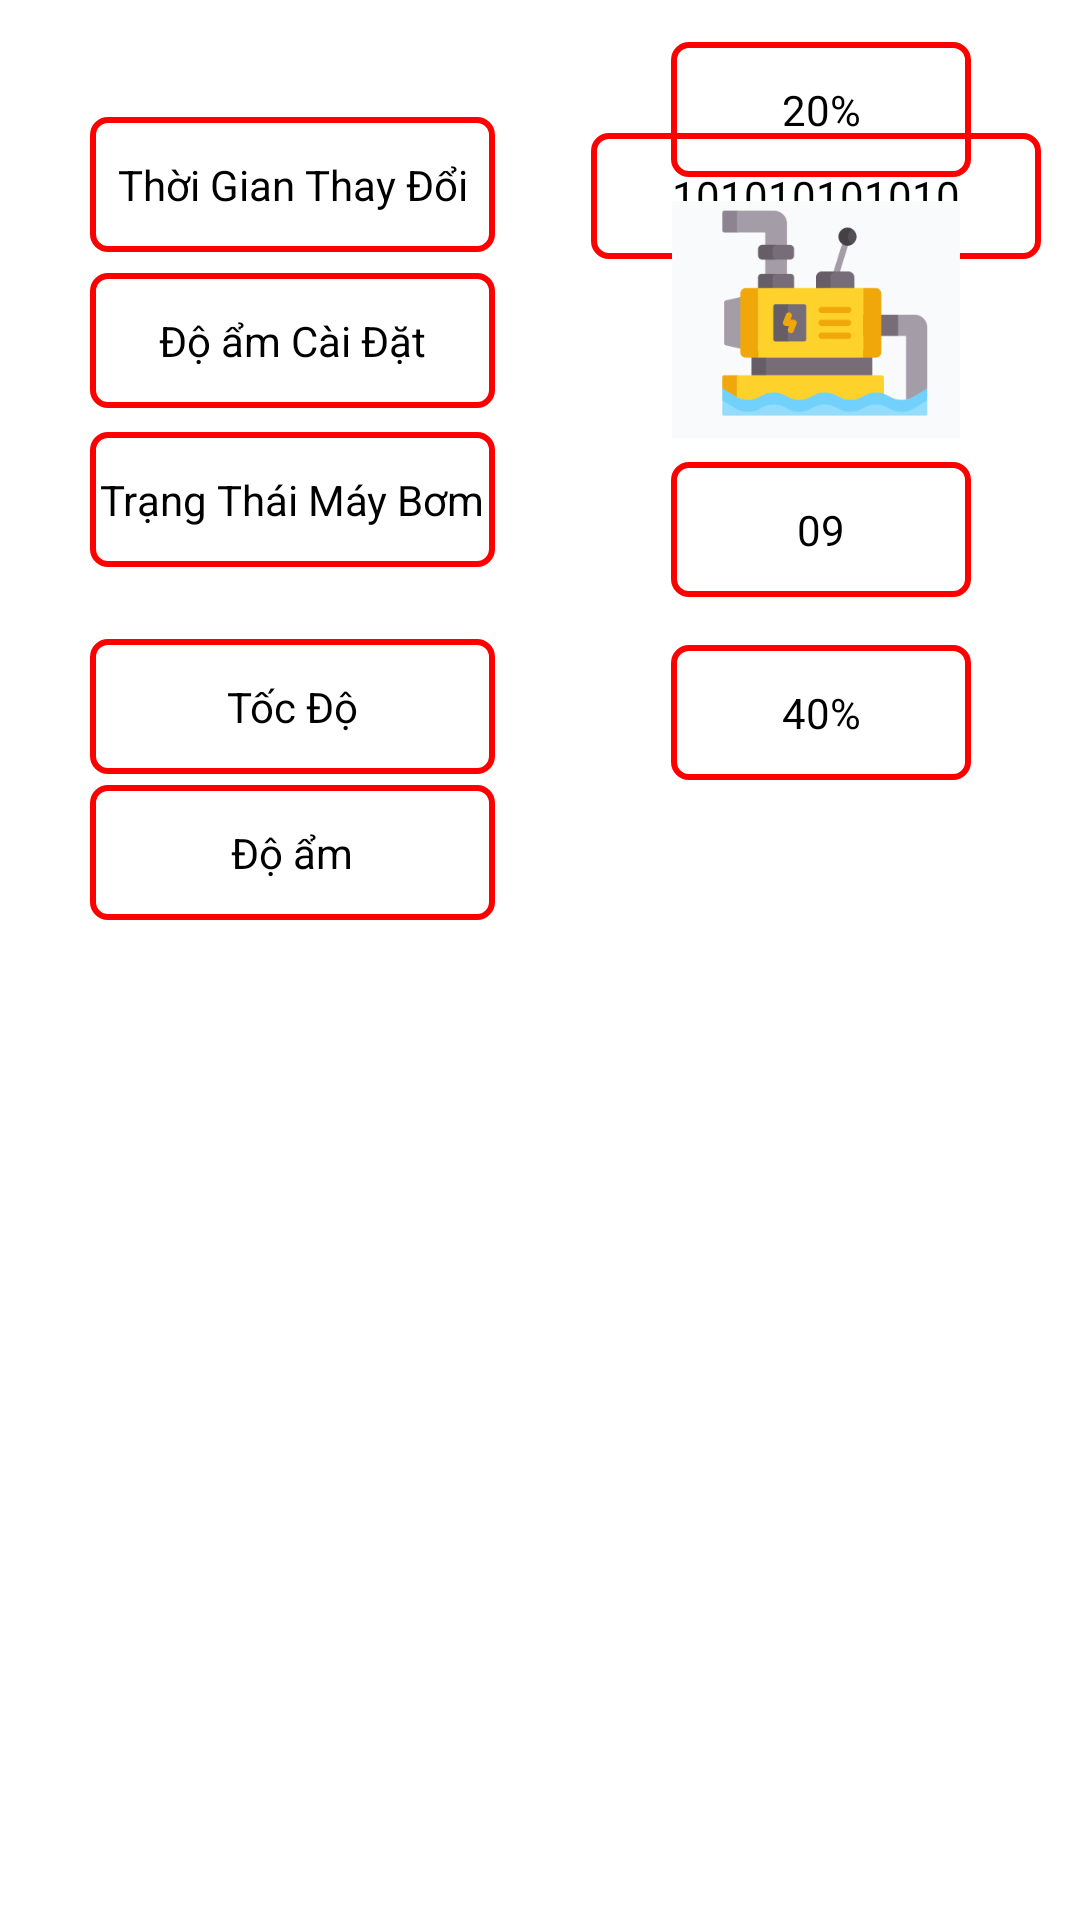

Where to tap for icons on this 1080×1920 app screen, as (x,y):
maybomonl: (825,313)
